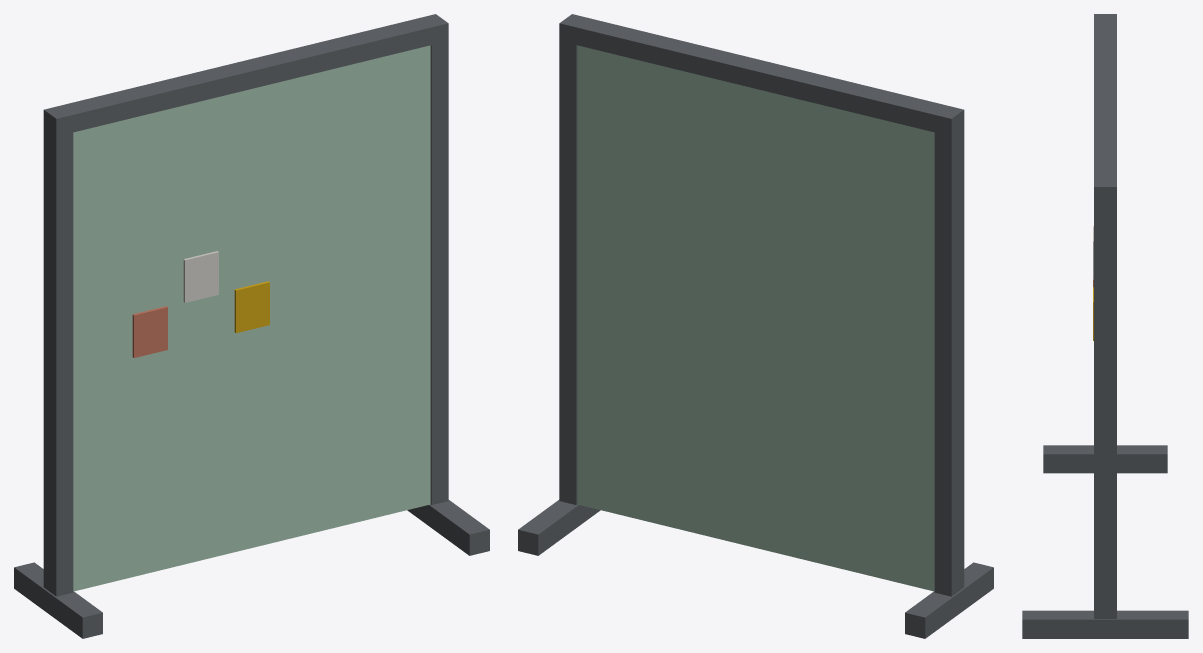
Rendered from office-partition-05.glb.
3 views of the same model, side by side, from view 1: azimuth 30°, elevation 25°; view 2: azimuth 150°, elevation 25°; view 3: azimuth 270°, elevation 25° (orthographic). The views are drawn at different scales.
Visible parts, largest first — view 1: office_partition_05; view 2: office_partition_05; view 3: office_partition_05.
Boxes of the visible parts, x1,y1,x2,y2 form: office_partition_05: (14,14,489,638); office_partition_05: (518,14,993,638); office_partition_05: (1022,14,1188,638).
Bounding box in the file's own units: 1.16 × 1.4 × 0.4688.
